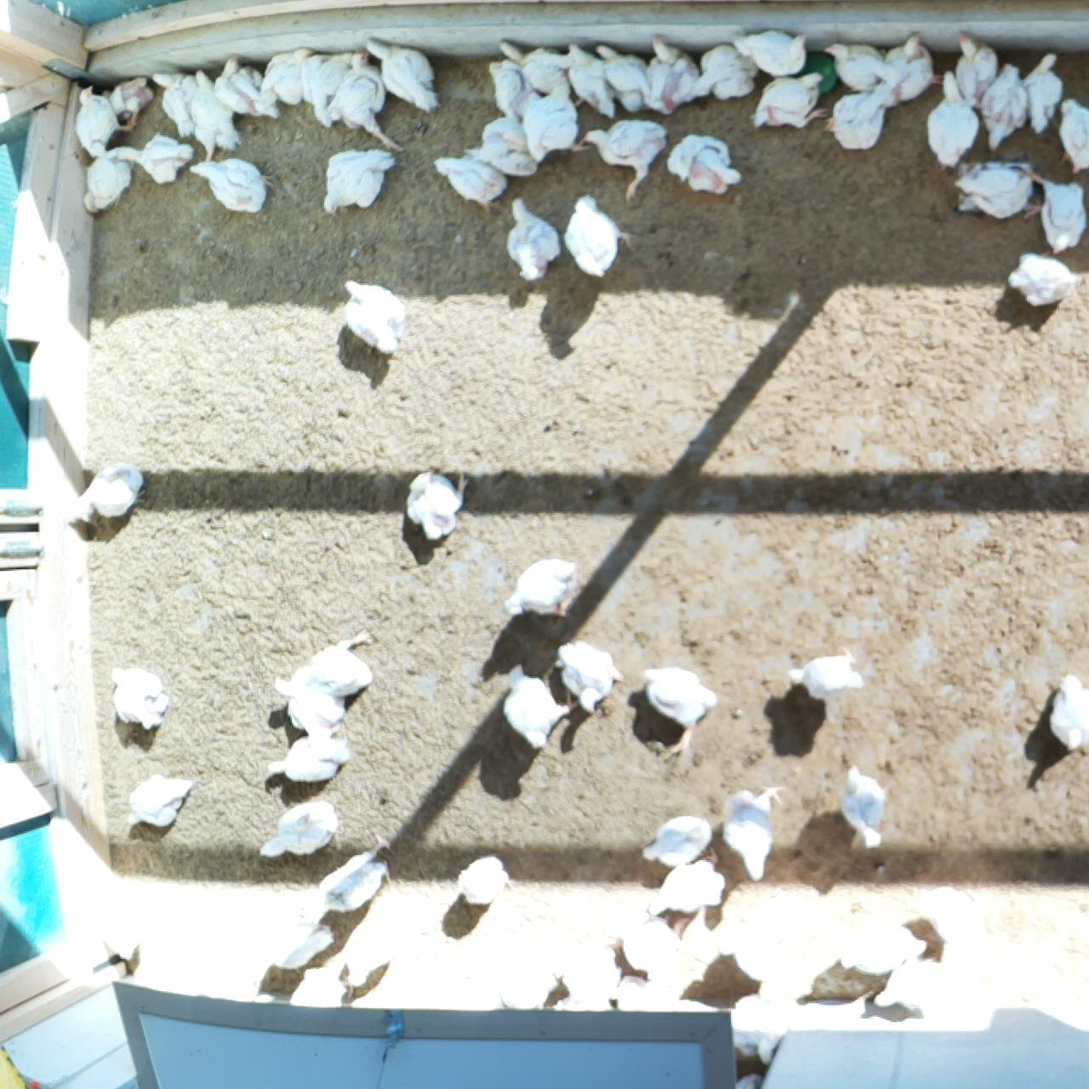chicken: (320, 44, 411, 158), (639, 660, 725, 761), (310, 829, 401, 917), (717, 777, 789, 885), (1016, 157, 1089, 258), (582, 113, 669, 196), (57, 457, 152, 531), (500, 660, 577, 749), (641, 848, 731, 924), (564, 190, 638, 282), (495, 33, 586, 107), (362, 33, 443, 116), (315, 145, 405, 218), (947, 149, 1031, 226), (871, 953, 966, 1021), (398, 456, 471, 544), (255, 794, 345, 865), (923, 65, 979, 177), (774, 638, 869, 704), (746, 67, 835, 137), (519, 76, 587, 167), (836, 917, 934, 980), (659, 126, 741, 200), (551, 637, 629, 714), (340, 277, 411, 361), (187, 153, 278, 218), (302, 623, 379, 699), (1004, 242, 1089, 310), (102, 660, 177, 735), (268, 665, 346, 737), (186, 66, 245, 161), (502, 192, 561, 285), (501, 553, 580, 622), (726, 987, 797, 1063), (428, 149, 511, 214), (640, 33, 705, 115), (118, 770, 201, 834), (259, 918, 339, 984), (838, 761, 896, 852), (460, 114, 545, 176), (263, 730, 354, 787), (549, 931, 621, 1002), (208, 51, 281, 121), (92, 882, 149, 968), (979, 56, 1029, 154), (823, 83, 892, 154), (911, 882, 985, 946), (616, 904, 683, 974), (638, 810, 718, 868), (559, 38, 616, 119), (880, 33, 943, 105), (726, 22, 807, 78), (590, 43, 652, 116), (259, 36, 319, 110), (691, 39, 759, 104), (950, 24, 1000, 111), (70, 83, 128, 157), (822, 37, 886, 101), (1023, 50, 1069, 139), (448, 853, 512, 916), (124, 131, 198, 184), (1044, 670, 1089, 757), (309, 42, 352, 133), (152, 64, 203, 140), (100, 70, 157, 137), (80, 145, 131, 219), (482, 54, 537, 120), (1051, 90, 1089, 177), (492, 966, 554, 1014), (301, 46, 328, 108), (612, 959, 616, 959)
